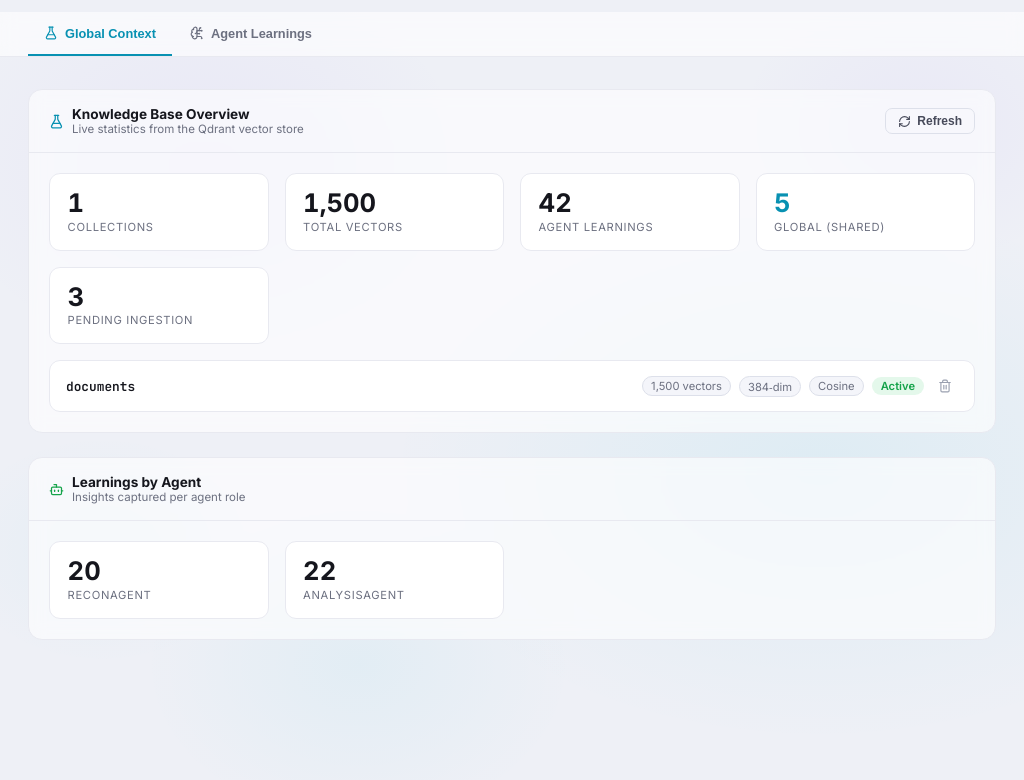
Test: KnowledgeBase tab switching › switches back to Global Context tab
Click the button "Agent Learnings".
click(251, 34)  # box [174,12,328,56]
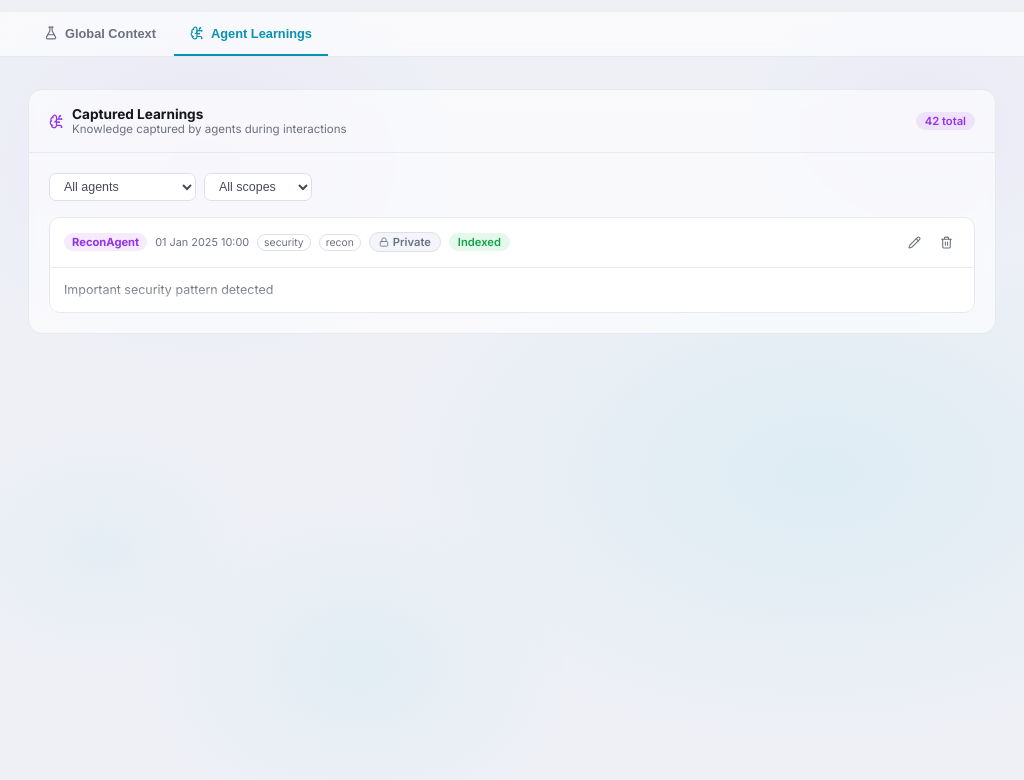
Click the button "Global Context".
click(100, 34)  # box [28,12,172,56]
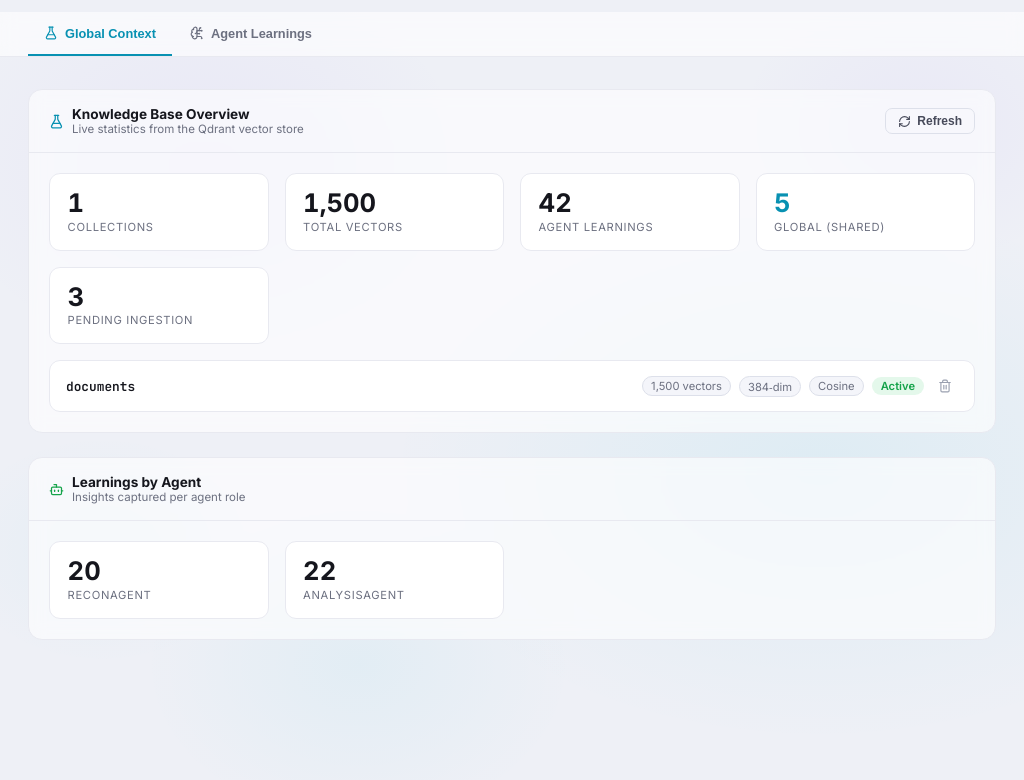
expect the text "Knowledge Base Overview" is shown: met, box [72,106,250,122]
